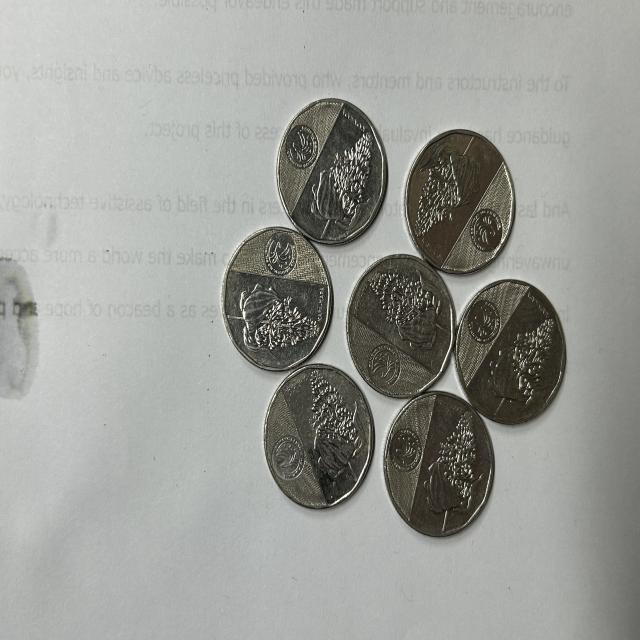10_New_Back: (367, 263, 447, 363), (227, 272, 308, 364), (423, 398, 484, 518), (494, 299, 560, 408), (312, 114, 369, 238), (300, 374, 364, 478), (412, 130, 462, 260)
